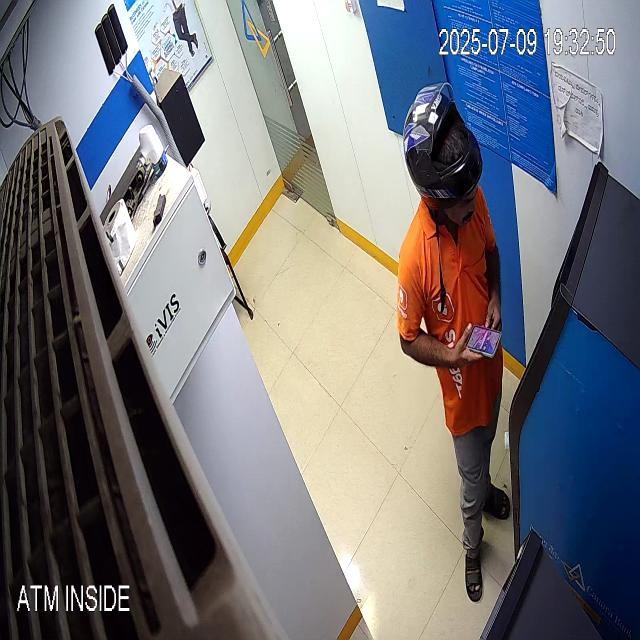helmet: (402, 82, 483, 227)
